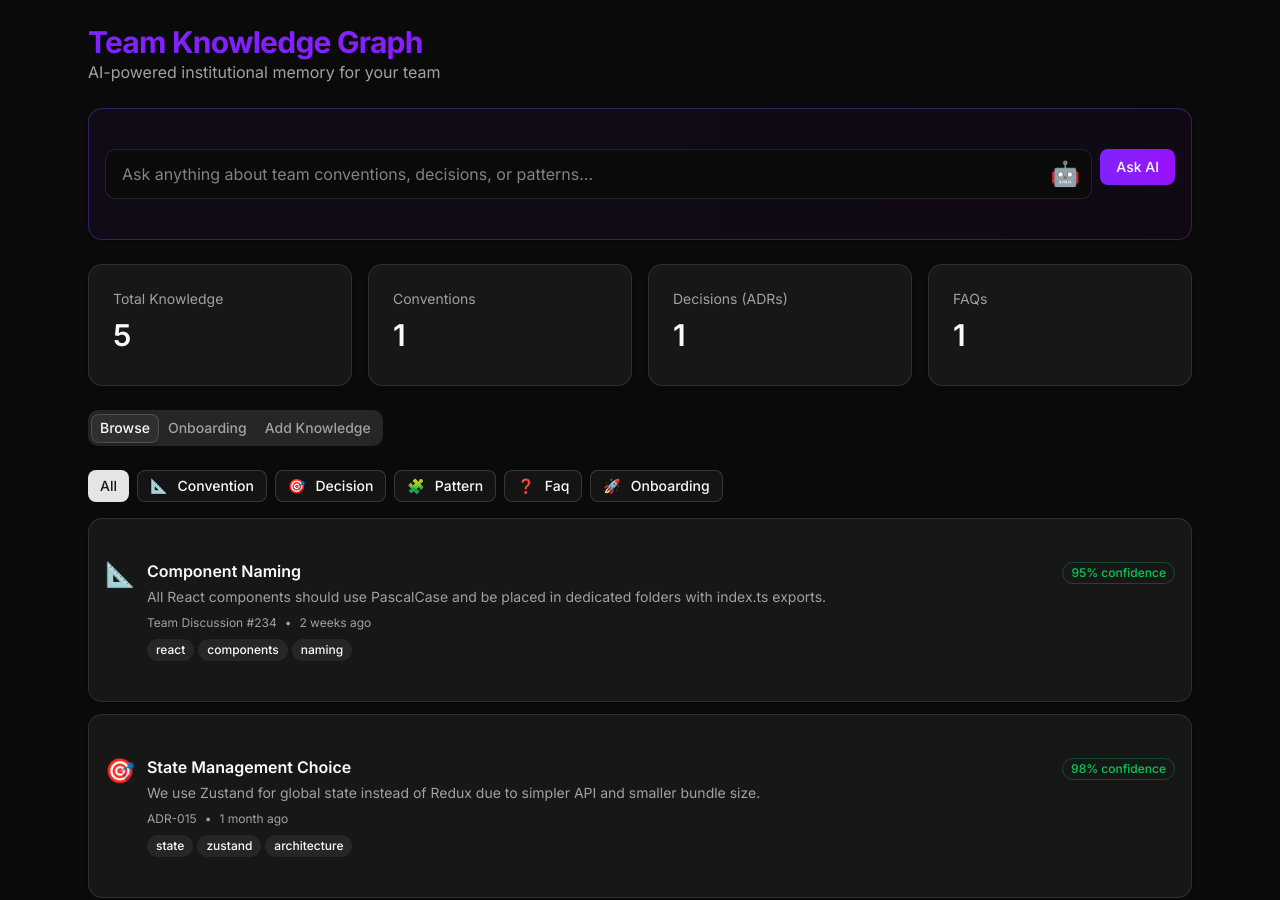
Test: KnowledgeGraphPage › asks AI with search query
This screenshot has width=1280, height=900.
Replace the text in the field with placeholder "Ask anything about team conventions" with "naming" at (599, 174), box [105,149,1092,199]
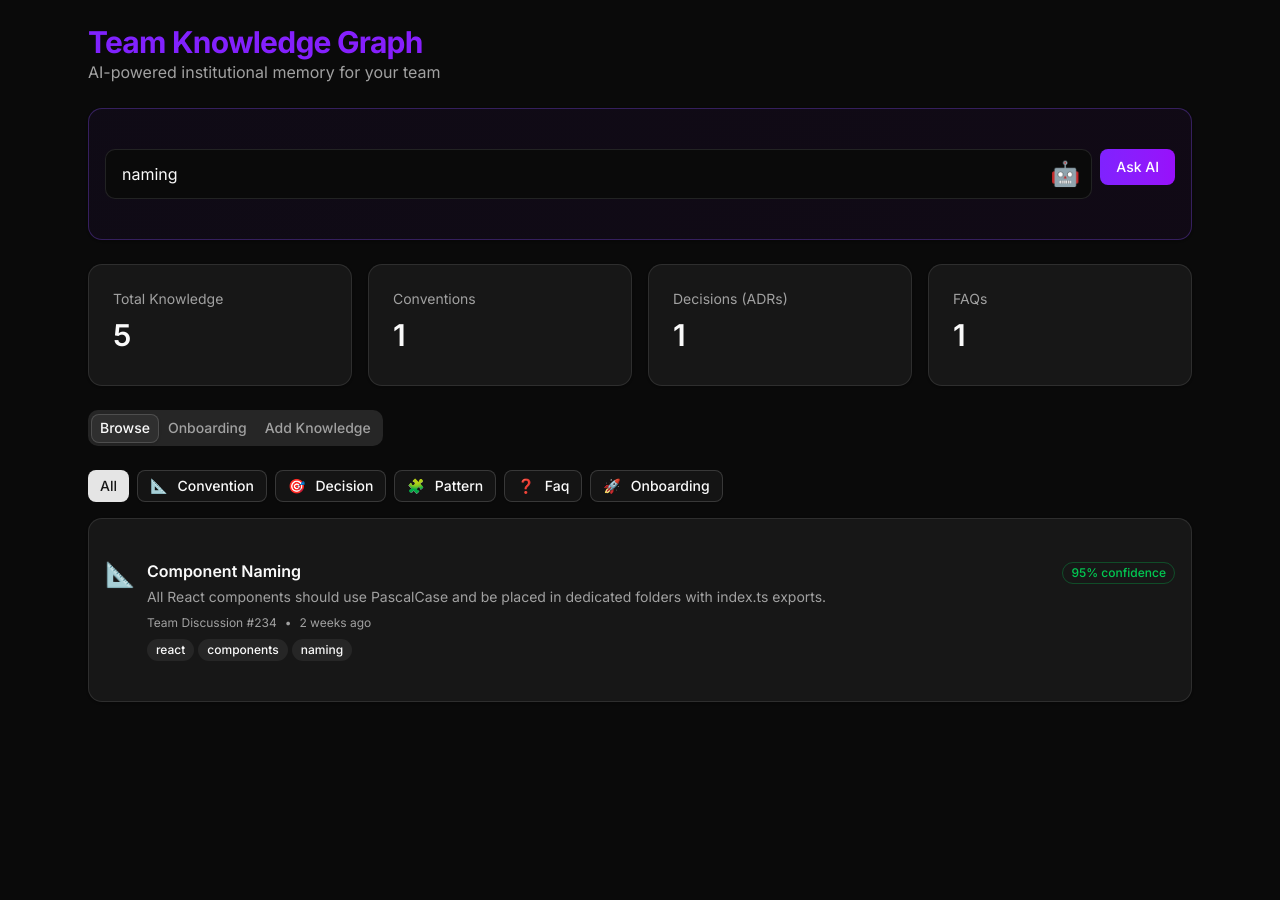
Click the button "Ask AI" at (1138, 167), box [1100,149,1175,185]
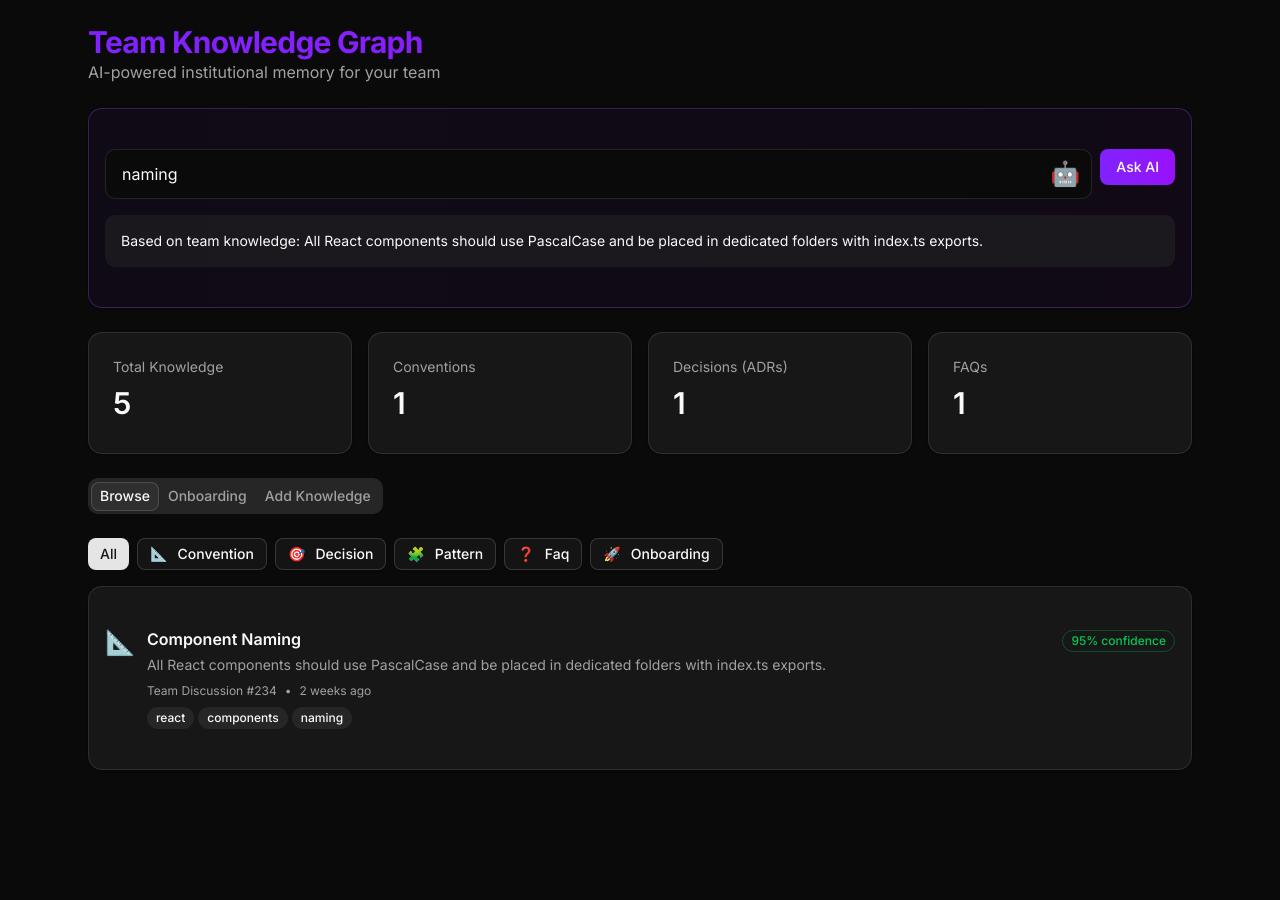
Result: the text "Based on team knowledge:" is shown at [121,232,983,249]
